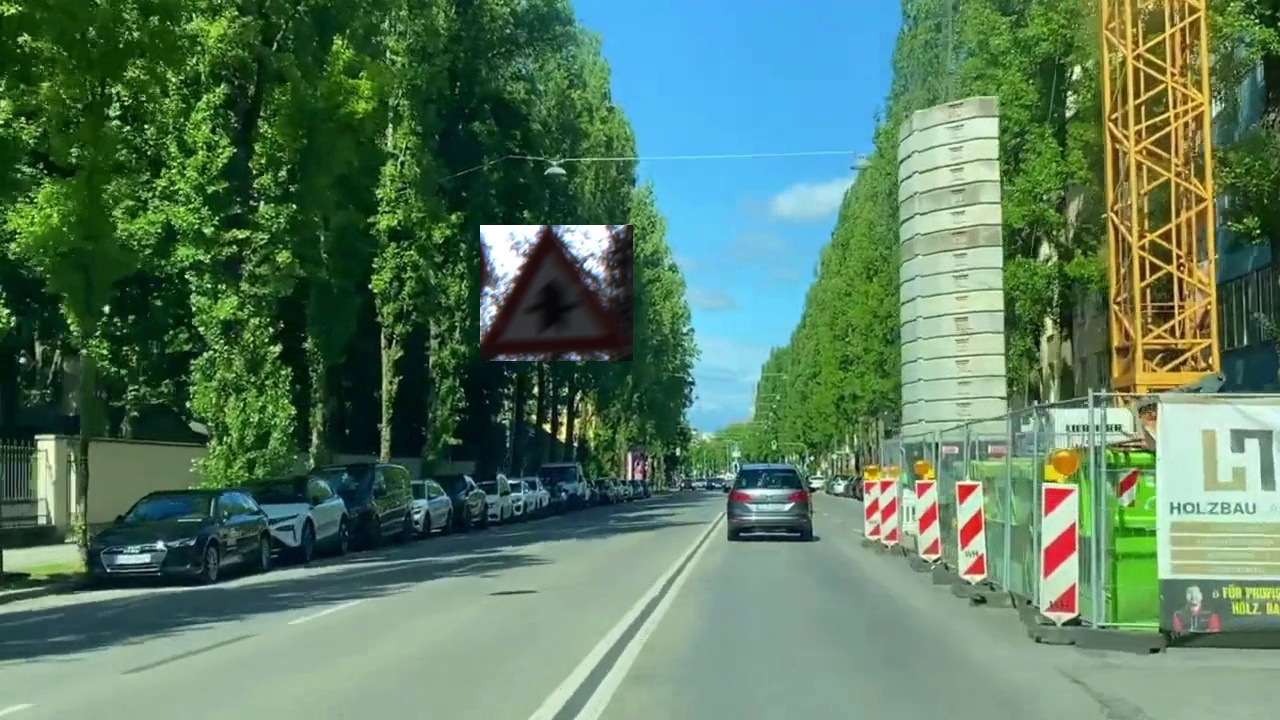Right-of-way: (480, 225, 633, 361)
